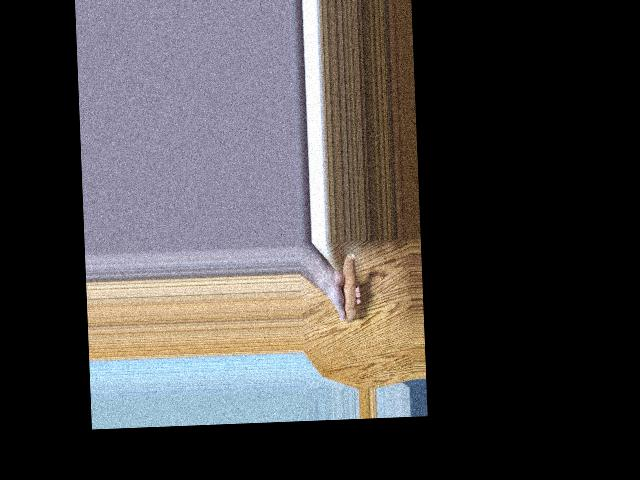sweet_potato: (334, 252, 358, 323)
